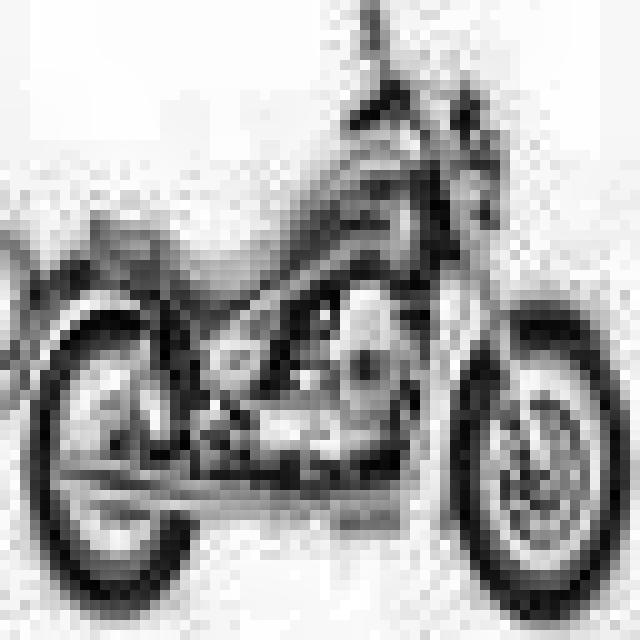mopeds: (0, 59, 640, 633)
